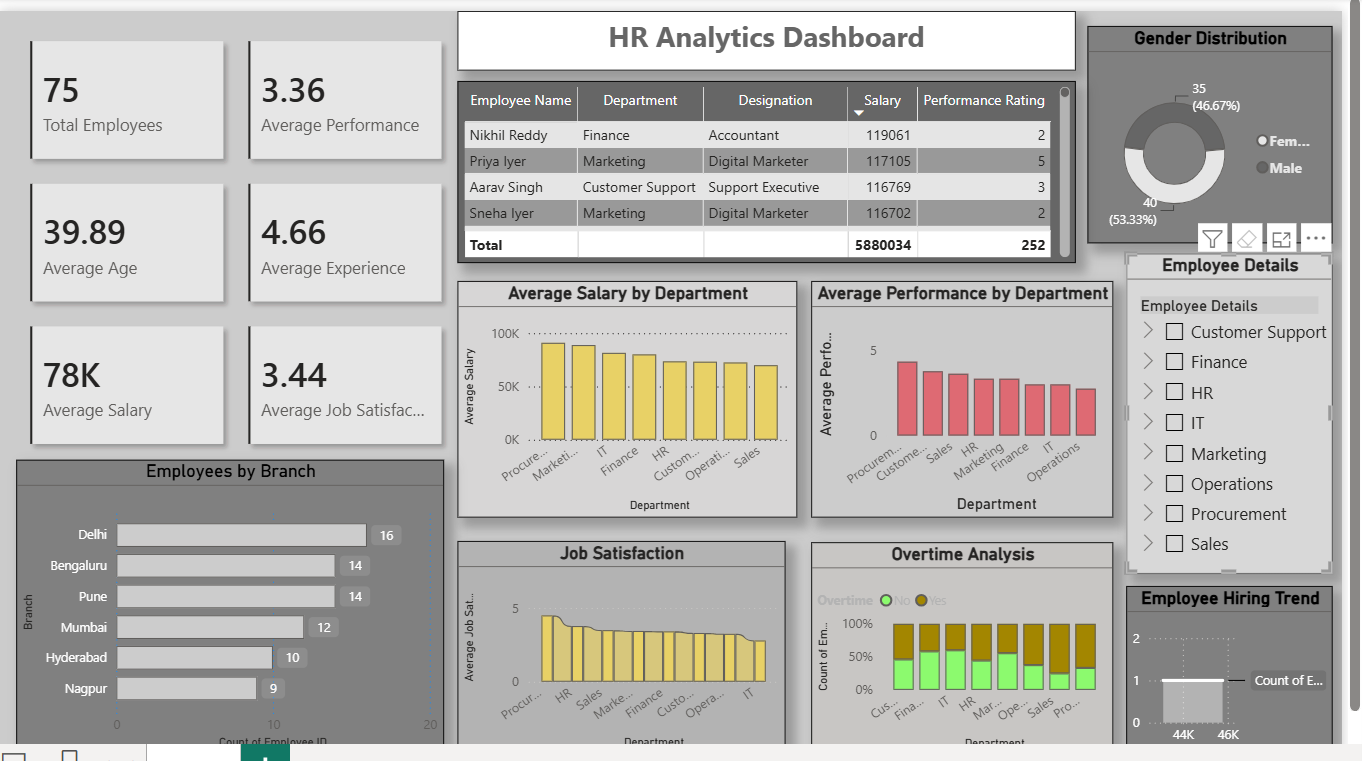

The page's visual inventory and layout, read from the dashboard file:
{"tool":"powerbi","page":{"name":"Page 1","canvas":[1280,720],"ordinal":0},"visuals":[{"type":"cardVisual","fields":{"Data":["Employees.Total Employees","Employees.Average Performance","Employees.Average Age","Employees.Average Experience","Employees.Average Salary","Employees.Average Job Satisfaction"]},"box":[0,0,451.2,442.8],"z":1000},{"type":"textbox","box":[436.9,0,589.9,57],"z":7000},{"type":"donutChart","title":"Gender Distribution","fields":{"Category":["Employees.Gender"],"Y":["CountNonNull(Employees.Employee ID)"]},"box":[1036.5,13.9,233.7,207.3],"z":8000},{"type":"clusteredColumnChart","fields":{"Category":["Employees.Department"],"Y":["Employees.Average Salary"]},"box":[436.2,257.9,323.9,225.6],"z":9000},{"type":"clusteredBarChart","title":"Employees by Branch","fields":{"Category":["Employees.Branch"],"Y":["CountNonNull(Employees.Employee ID)"]},"box":[15.3,428.5,407.7,281],"z":10000},{"type":"clusteredColumnChart","fields":{"Category":["Employees.Department"],"Y":["Employees.Average Performance"]},"box":[773.8,257.9,287.9,225.6],"z":11000},{"type":"ribbonChart","title":"Job Satisfaction","fields":{"Category":["Employees.Department"],"Y":["Employees.Average Job Satisfaction"]},"box":[436.2,505.1,312.8,203.5],"z":12000},{"type":"hundredPercentStackedColumnChart","title":"Overtime Analysis","fields":{"Category":["Employees.Department"],"Series":["Employees.Overtime"],"Y":["CountNonNull(Employees.Employee ID)"]},"box":[773.8,506.4,288,203],"z":13000},{"type":"tableEx","fields":{"Values":["Employees.Employee Name","Employees.Department","Employees.Designation","Sum(Employees.Salary (₹/Month))","Sum(Employees.Performance Rating)"]},"box":[436.9,66.8,589.9,173.9],"z":14000},{"type":"slicer","title":"Employee Details","fields":{"Values":["Employees.Department","Employees.Branch","Employees.Gender","Employees.Employment Type","Employees.Manager"]},"box":[1073.6,230.9,197.2,305.2],"z":15000},{"type":"lineChart","title":"Employee Hiring Trend","fields":{"Category":["Employees.Date of Joining"],"Y":["CountNonNull(Employees.Employee ID)"]},"box":[1073.6,548.3,197.2,160.7],"z":16000}]}

Visuals, with their boxes in screenshot pixels (x1, y1, x2, y2), scaled from the page's 1280x720 canvas onto the 1362x761 screenshot:
cardVisual - Employees.Total Employees x Employees.Average Performance: Rect(0, 0, 480, 468)
textbox: Rect(465, 0, 1093, 60)
"Gender Distribution" donutChart: Rect(1103, 15, 1352, 234)
clusteredColumnChart - Employees.Department x Employees.Average Salary: Rect(464, 273, 809, 511)
"Employees by Branch" clusteredBarChart: Rect(16, 453, 450, 750)
clusteredColumnChart - Employees.Department x Employees.Average Performance: Rect(823, 273, 1130, 511)
"Job Satisfaction" ribbonChart: Rect(464, 534, 797, 749)
"Overtime Analysis" hundredPercentStackedColumnChart: Rect(823, 535, 1130, 750)
tableEx - Employees.Employee Name x Employees.Department: Rect(465, 71, 1093, 254)
"Employee Details" slicer: Rect(1142, 244, 1352, 567)
"Employee Hiring Trend" lineChart: Rect(1142, 580, 1352, 749)
